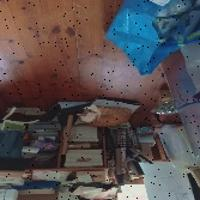asleep: (76, 105, 131, 126)
